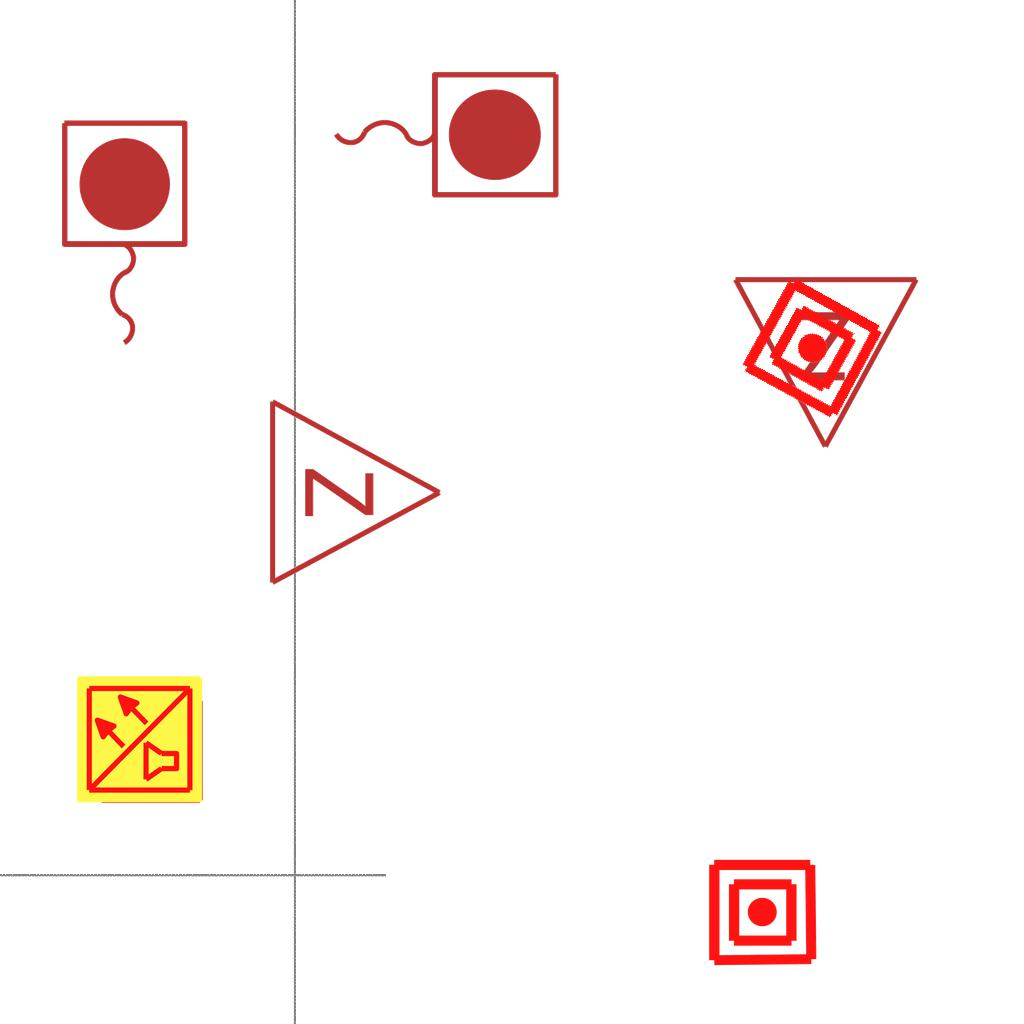NAM-Nichtautomatischer_Melder: (735, 271, 890, 426), (706, 856, 819, 969)
OKW_Multisensormelder_(Kombination_optischer_Rauch-Kahlenmonoxid_Waerme-Melder): (74, 673, 206, 805)
Zimmersignalleuchte: (255, 392, 455, 588), (730, 262, 926, 462)
Zugtaster: (51, 112, 195, 356), (323, 61, 567, 205)
